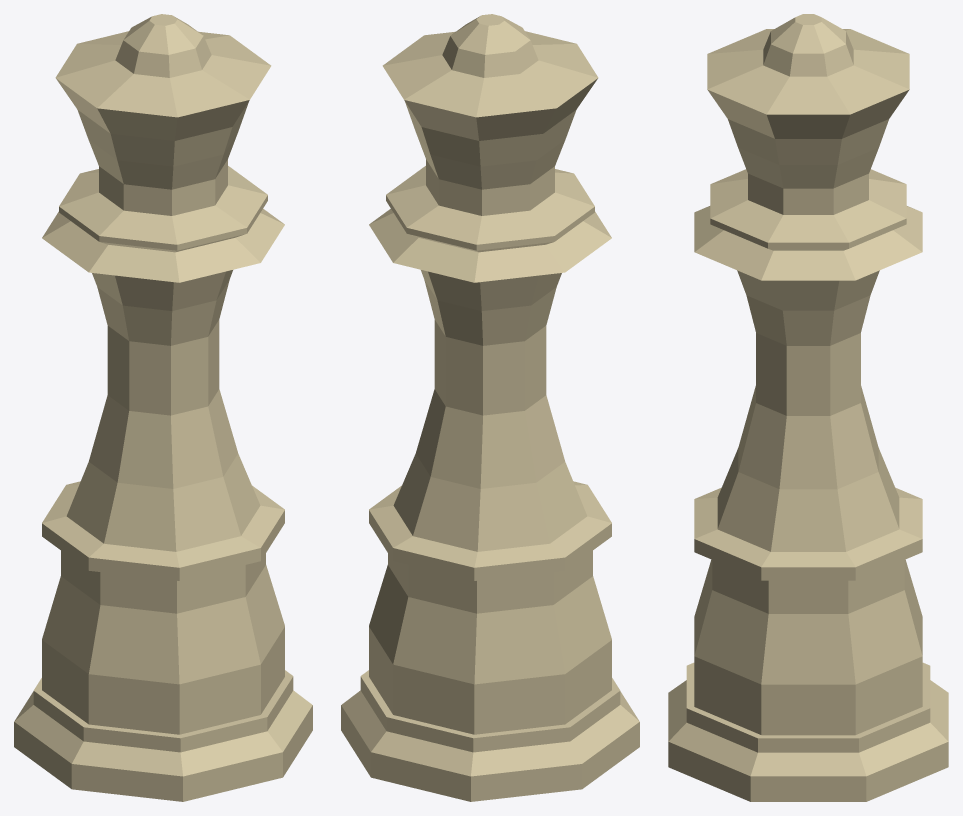
The model's file is queen.fbx.
3 views of the same model, side by side, from view 1: azimuth 30°, elevation 25°; view 2: azimuth 150°, elevation 25°; view 3: azimuth 270°, elevation 25° (orthographic).
Visible parts, largest first — view 1: Cylinder_1; view 2: Cylinder_1; view 3: Cylinder_1.
Part boxes in pixels (left/top/right/bottom): Cylinder_1: left=14, top=14, right=312, bottom=801; Cylinder_1: left=341, top=14, right=639, bottom=801; Cylinder_1: left=668, top=14, right=948, bottom=801.
Size of the model in its own units: 126 by 359 by 126.
